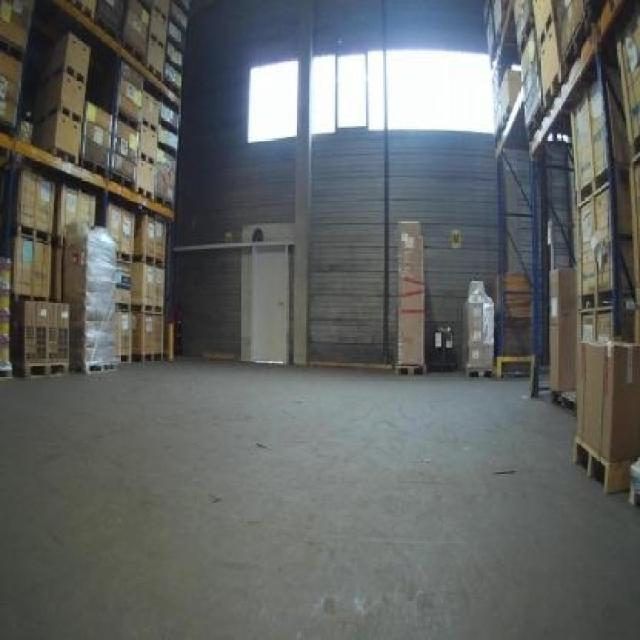floor: (0, 358, 637, 637)
pallets: (572, 340, 637, 489)
